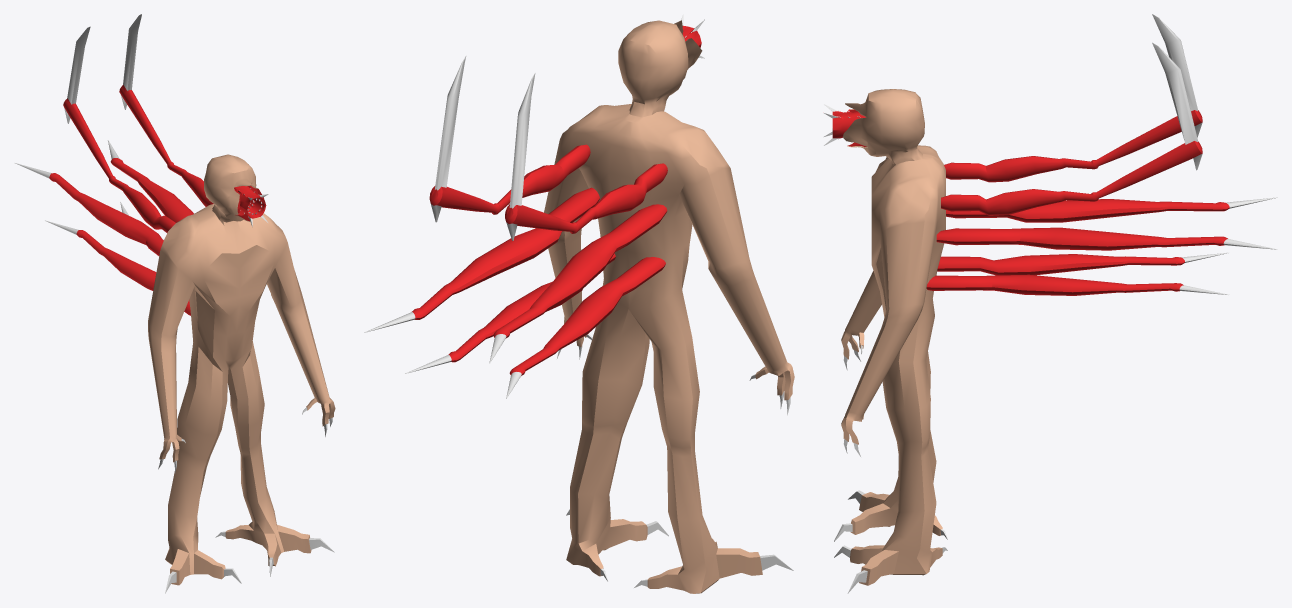
The picture shows the model from 3 angles, left to right: view 1: azimuth 30°, elevation 25°; view 2: azimuth 150°, elevation 25°; view 3: azimuth 270°, elevation 25°; orthographic projection. The views are drawn at different scales.
Visible parts, largest first — view 1: Cube, Cylinder.001; view 2: Cube; view 3: Cube, Cylinder.001.
Part boxes in pixels (x1,y1,x2,y2): Cube: [15, 14, 335, 593]; Cylinder.001: [234, 186, 268, 226]; Cube: [364, 20, 794, 593]; Cube: [834, 14, 1277, 593]; Cylinder.001: [824, 104, 865, 145].
Bounding box in the file's own units: 990 × 2520 × 1989.
